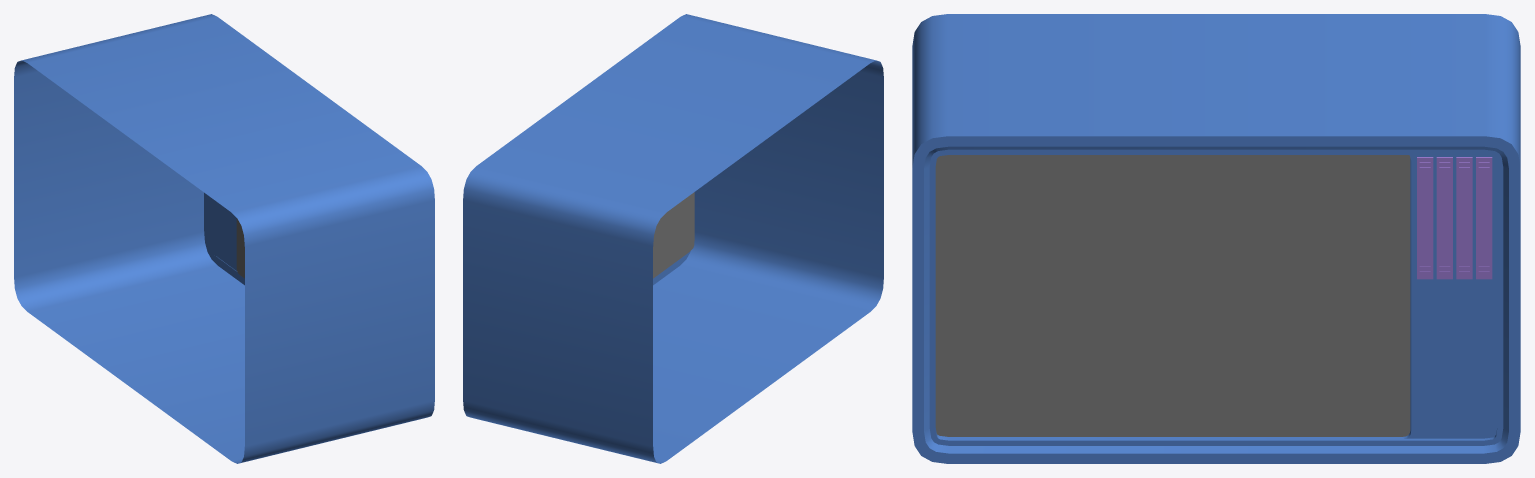
The picture shows the model from 3 angles, left to right: view 1: azimuth 30°, elevation 25°; view 2: azimuth 150°, elevation 25°; view 3: azimuth 270°, elevation 25°; orthographic projection. The views are drawn at different scales.
Visible parts, largest first — view 1: Box007, Object001; view 2: Box007, Object001; view 3: Object001, Box007, Box008.
Boxes of the visible parts, x1,y1,x2,y2 form: Box007: (14,14,434,463); Object001: (236,218,244,278); Box007: (463,14,883,463); Object001: (653,192,694,278); Object001: (935,155,1410,436); Box007: (912,14,1520,463); Box008: (1417,157,1492,279).
Bounding box in the file's own units: 20 × 25 × 42.05.
